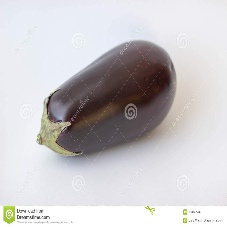eggplant: (44, 39, 178, 154)
